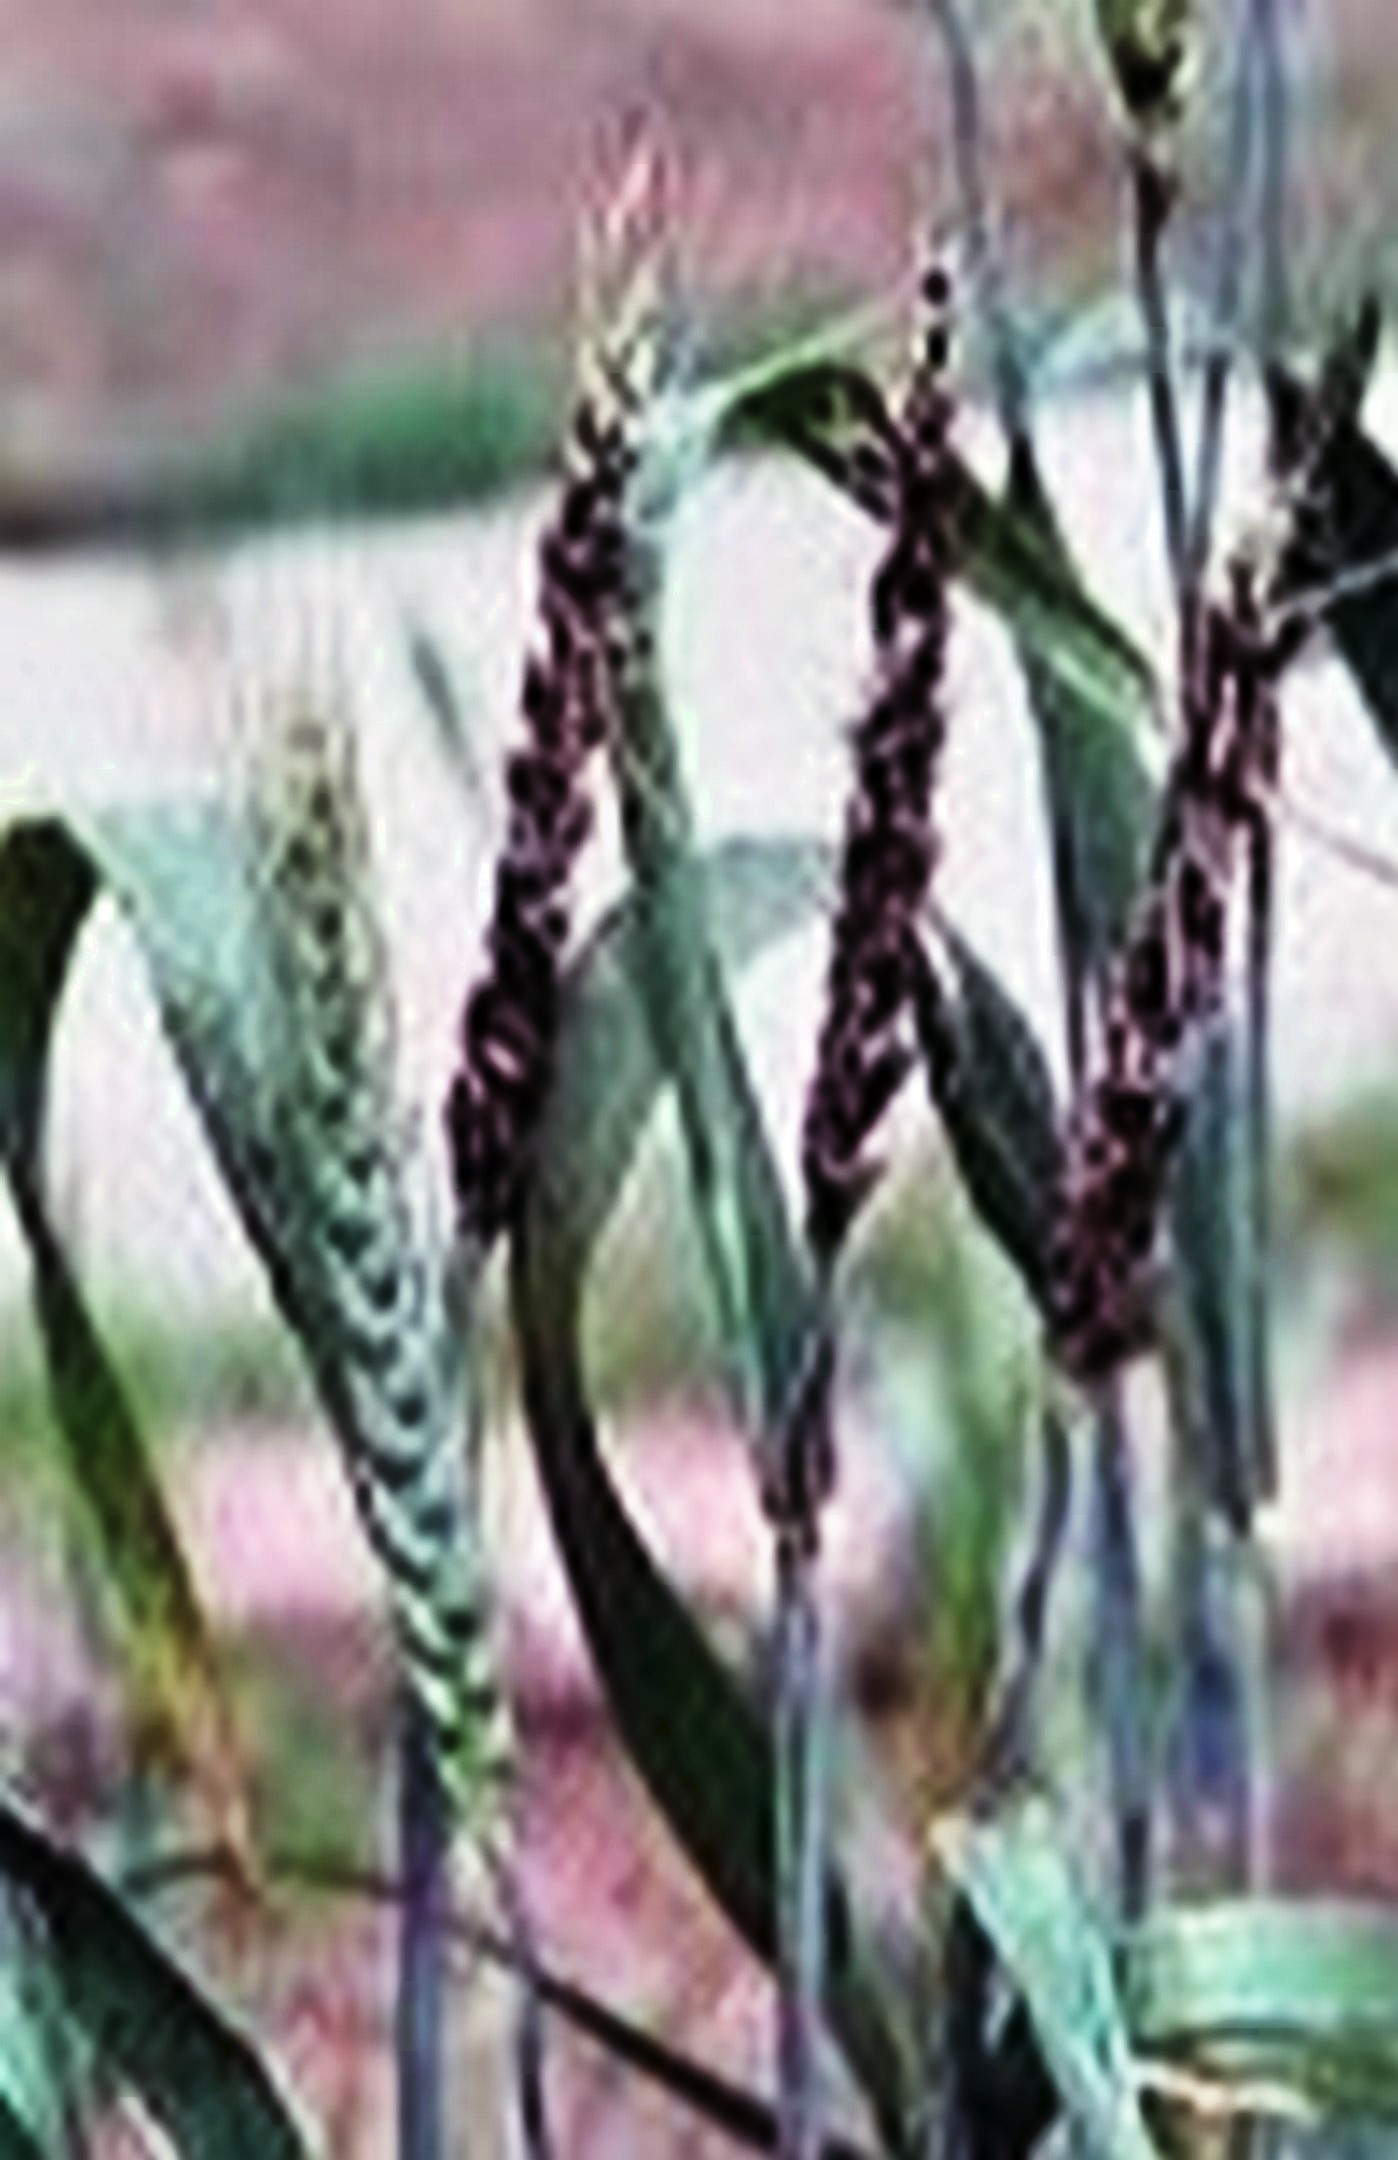Wheat Loose Smut: (428, 409, 1285, 1360)
